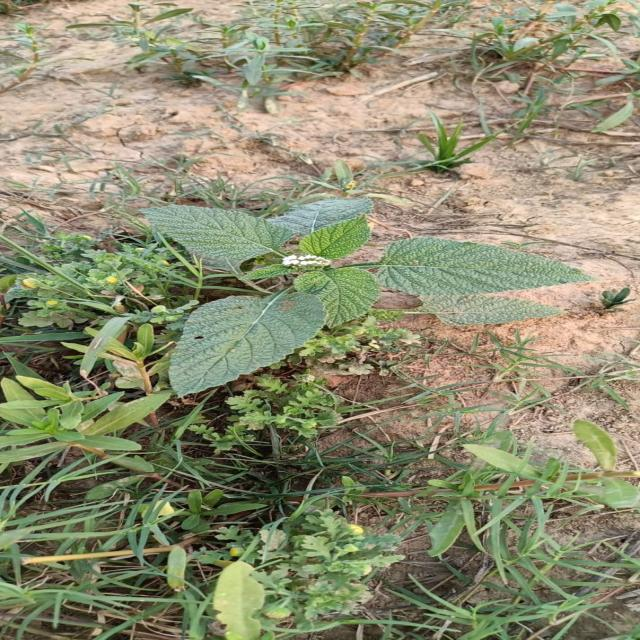plant: (169, 265, 378, 396), (390, 245, 586, 294), (140, 205, 295, 261), (297, 200, 368, 264)
